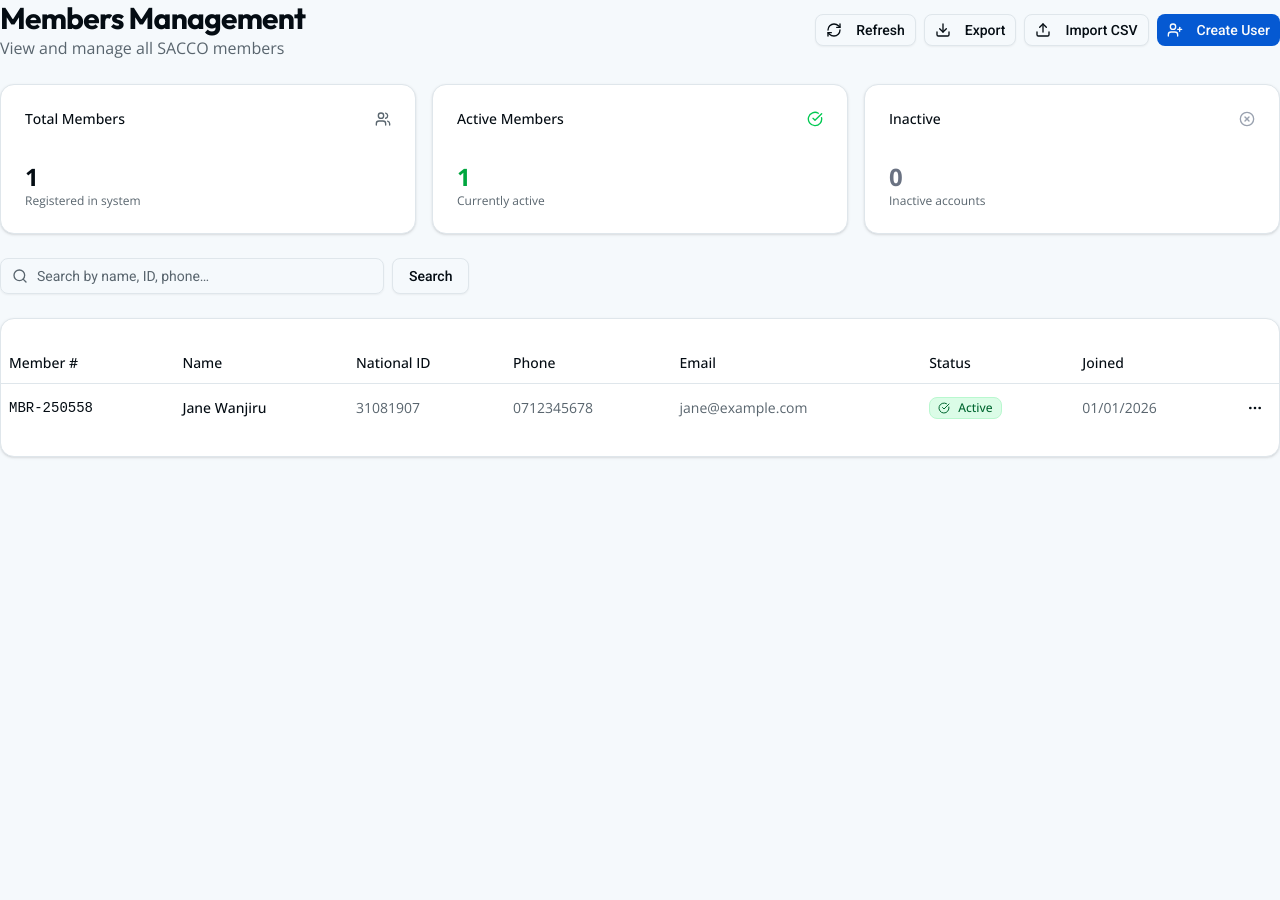
Test: Members page — Reveal Temp Password gating and flow › renders the 'already set their own password' case inline instead of a generic error
Check: the text "MBR-250558" is shown, box left=1, top=383, right=174, bottom=432
Step 1. Press the mouse on the 6th button → coordinates (1255, 408), box left=1239, top=392, right=1271, bottom=424
Step 2. Click the 6th button → coordinates (1255, 408), box left=1239, top=392, right=1271, bottom=424
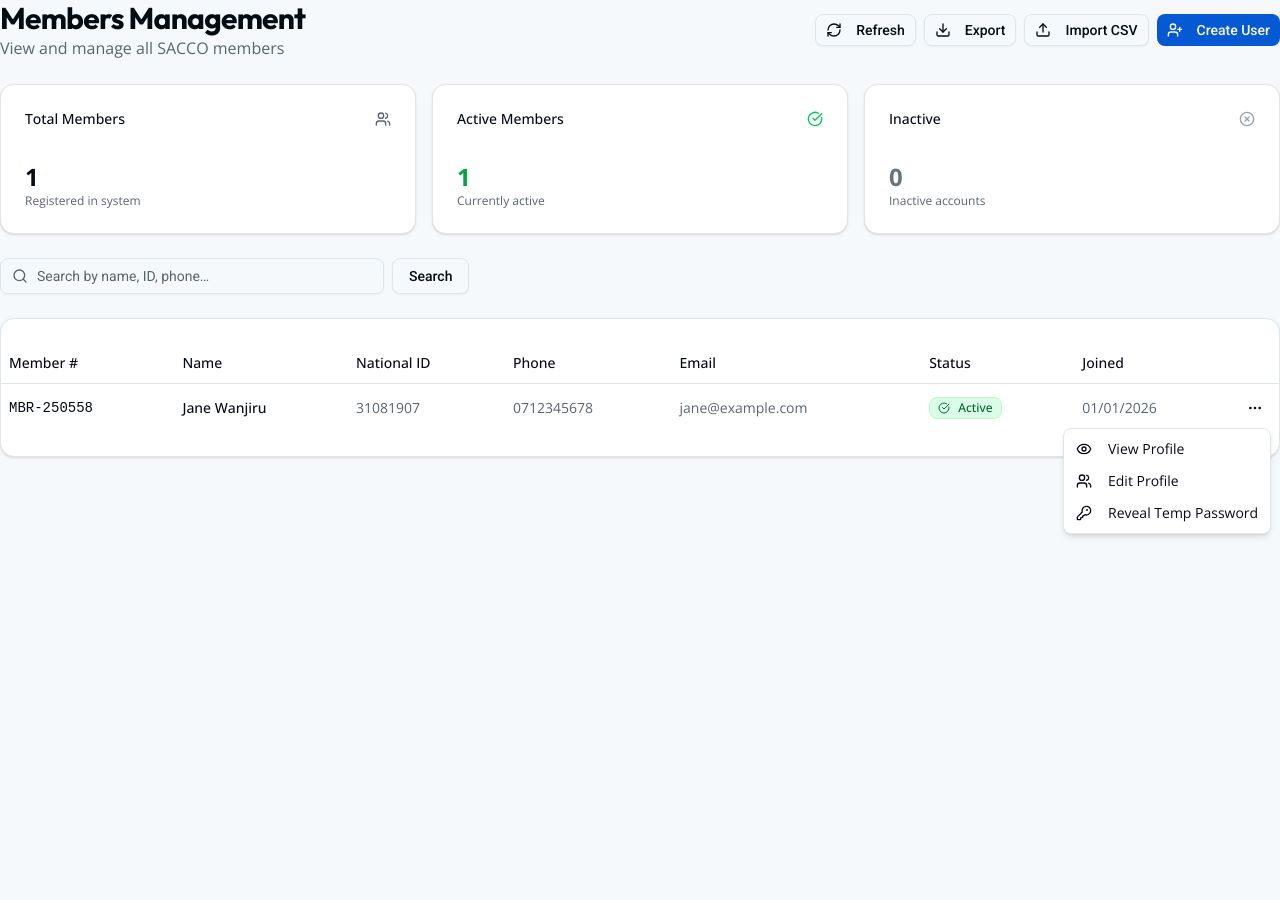
Step 3. Click the menu item "Reveal Temp Password" → coordinates (1167, 512), box left=1076, top=503, right=1258, bottom=522
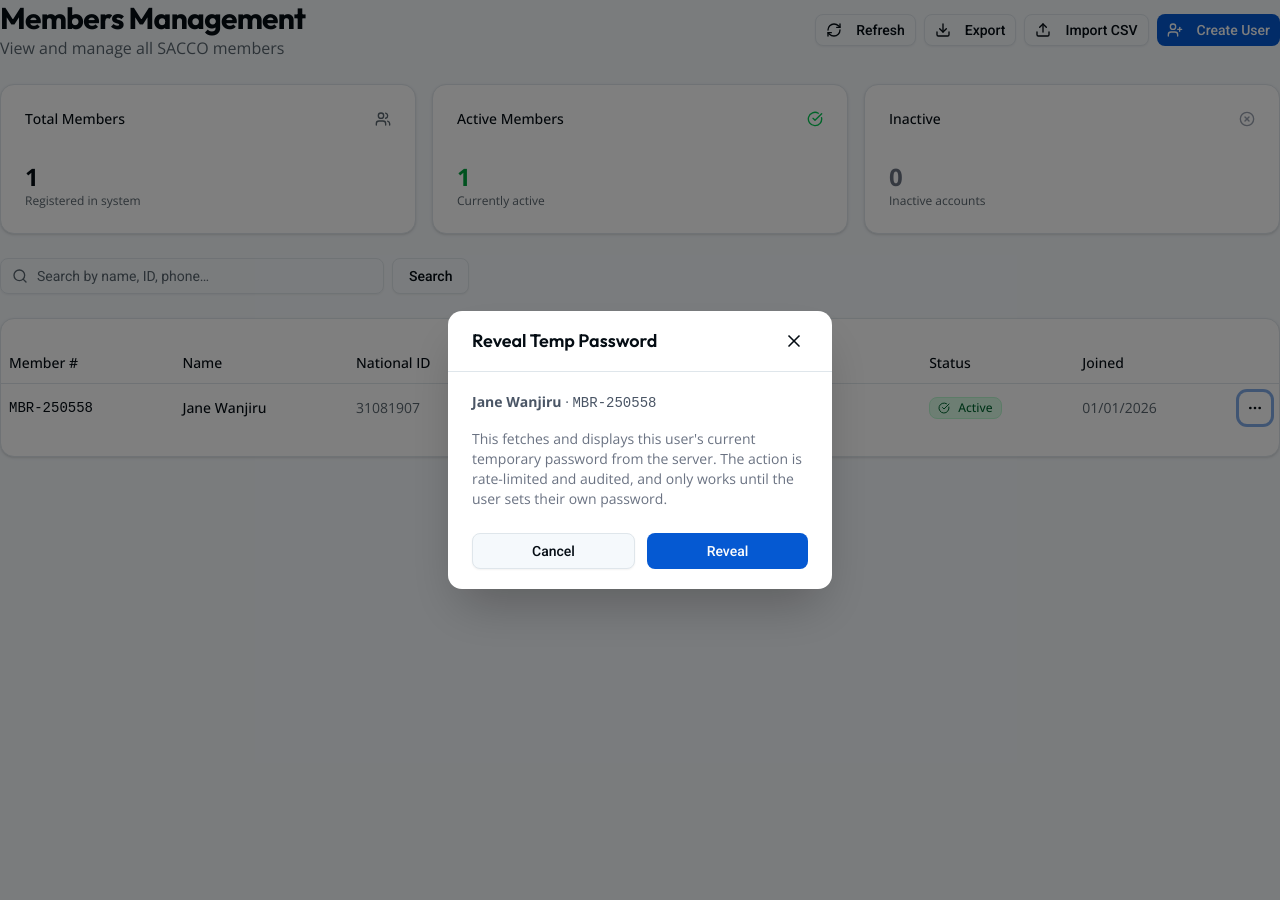
Step 4. Click the button "Reveal" → coordinates (728, 551), box left=647, top=533, right=808, bottom=569
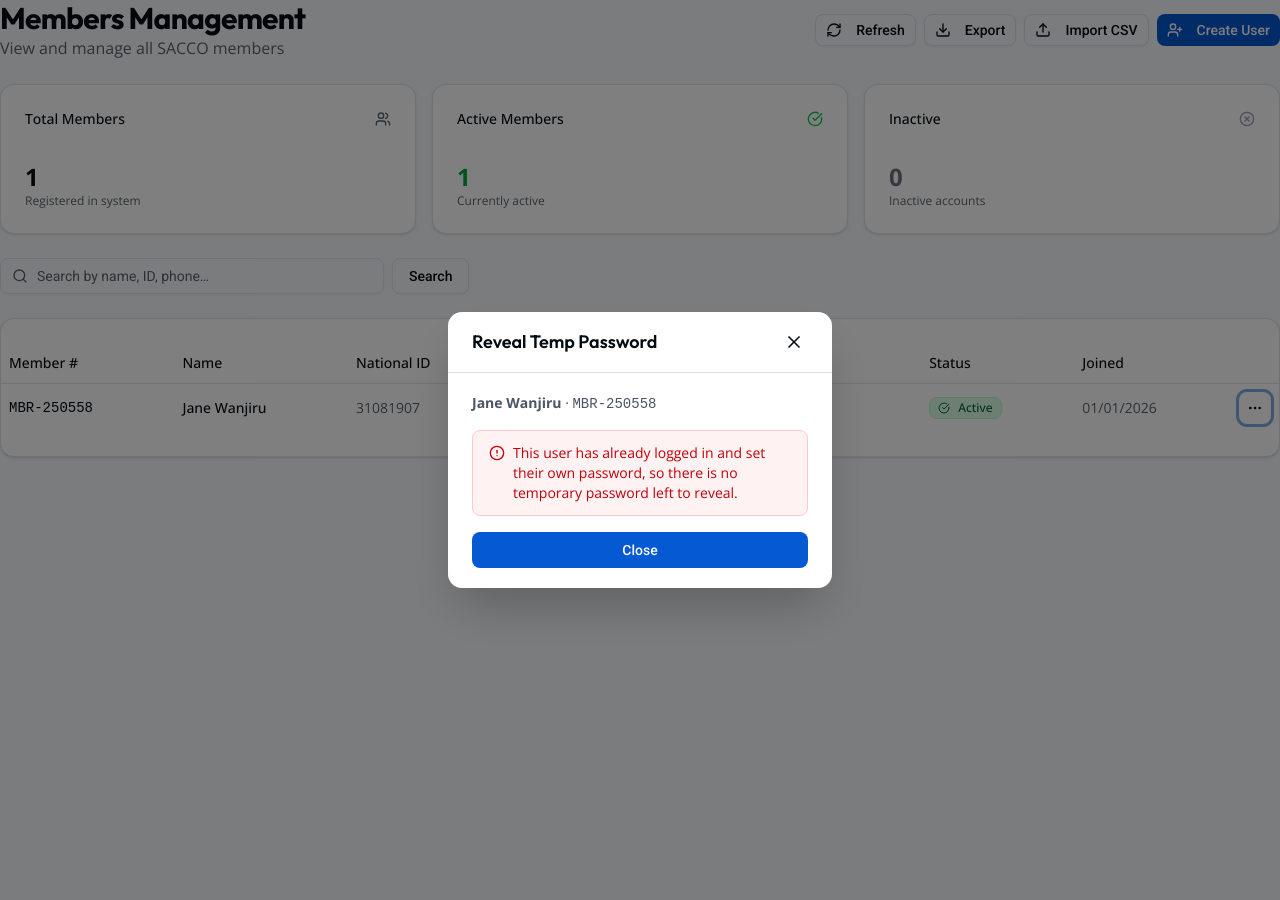
Check: the text "already logged in and set their own password" is shown, box left=513, top=443, right=765, bottom=502
